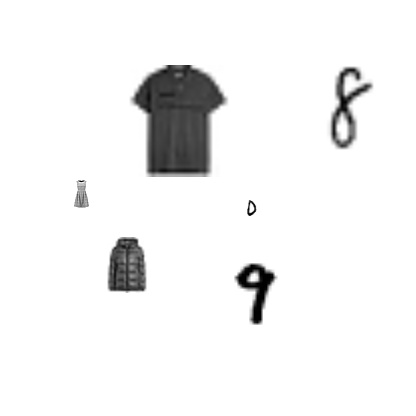0: (240, 197, 262, 219)
8: (288, 48, 400, 160)
9: (214, 243, 298, 327)
Coat: (98, 237, 154, 293)
Dress: (67, 180, 95, 208)
T-shirt/top: (123, 65, 235, 177)
